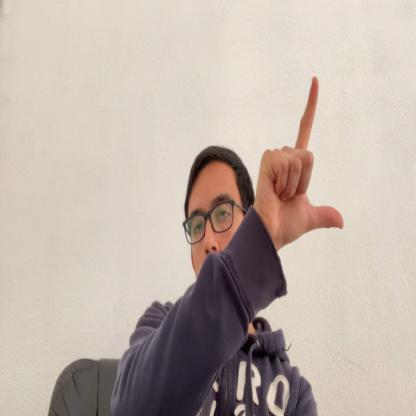L: (252, 77, 344, 250)
